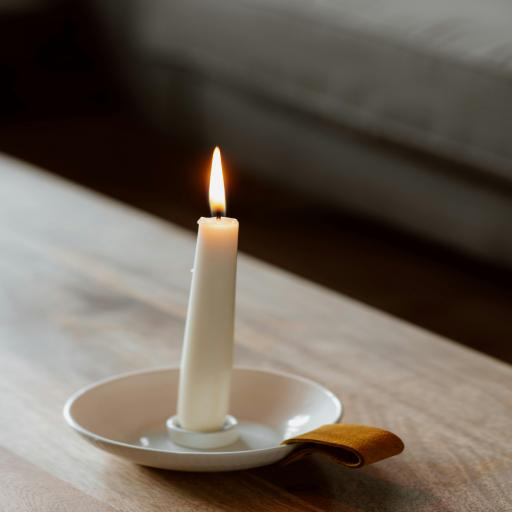candlelight: (170, 122, 242, 427)
